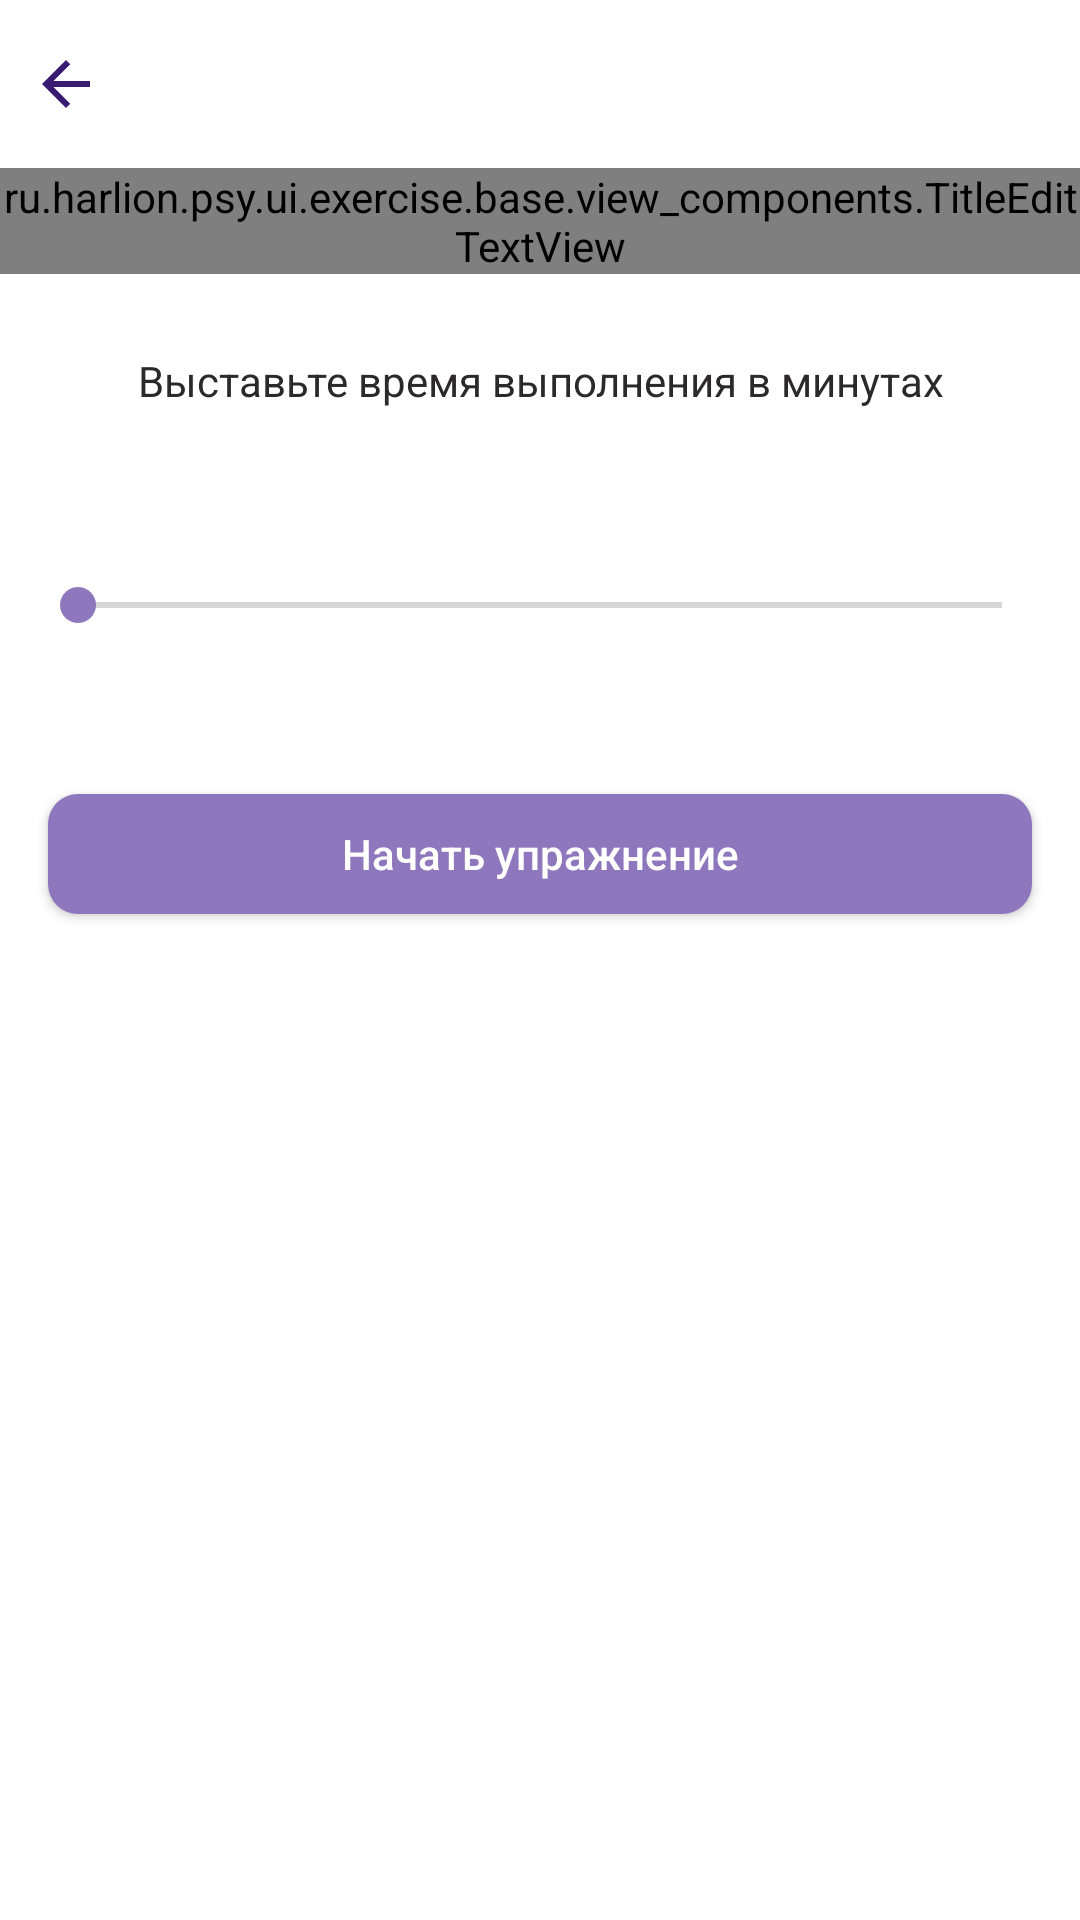

Named icons in this screenshot (1080px x 1920px) and their bounding boxes, box(x1, y1, x2, y2):
arrow back: box(42, 60, 90, 108)
